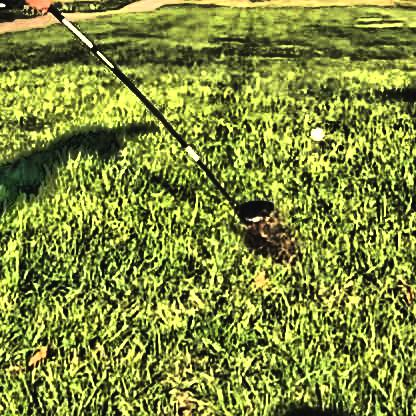golfball: (307, 124, 321, 139)
